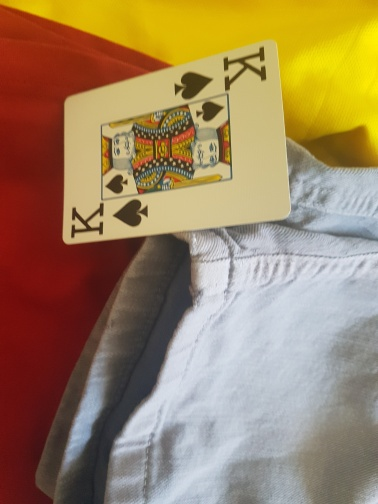king: (63, 41, 292, 243)
